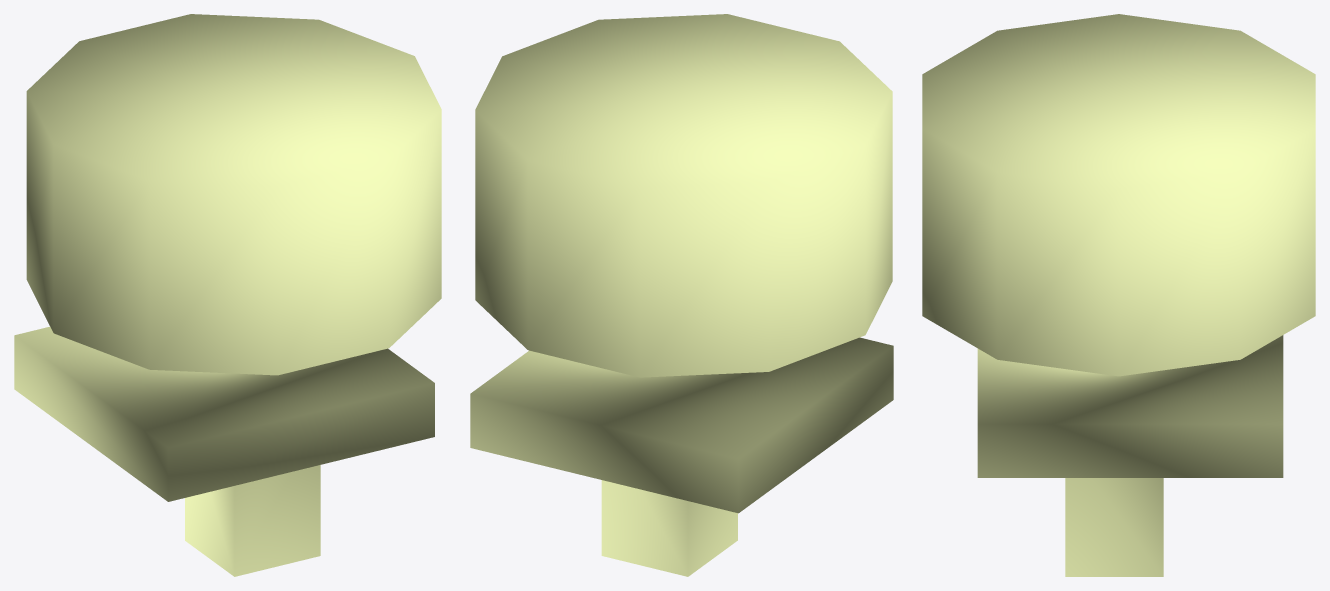
File: ps2_jrpg_phoenix_relic_token.obj
3 views of the same model, side by side, from view 1: azimuth 30°, elevation 25°; view 2: azimuth 150°, elevation 25°; view 3: azimuth 270°, elevation 25° (orthographic).
Bounding box in the file's own units: 0.84 × 1 × 0.7989.
